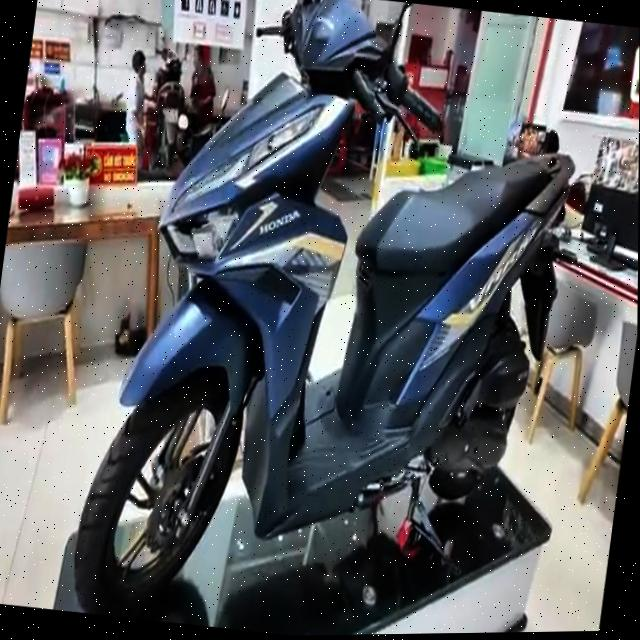motorcycle: (64, 0, 615, 639)
